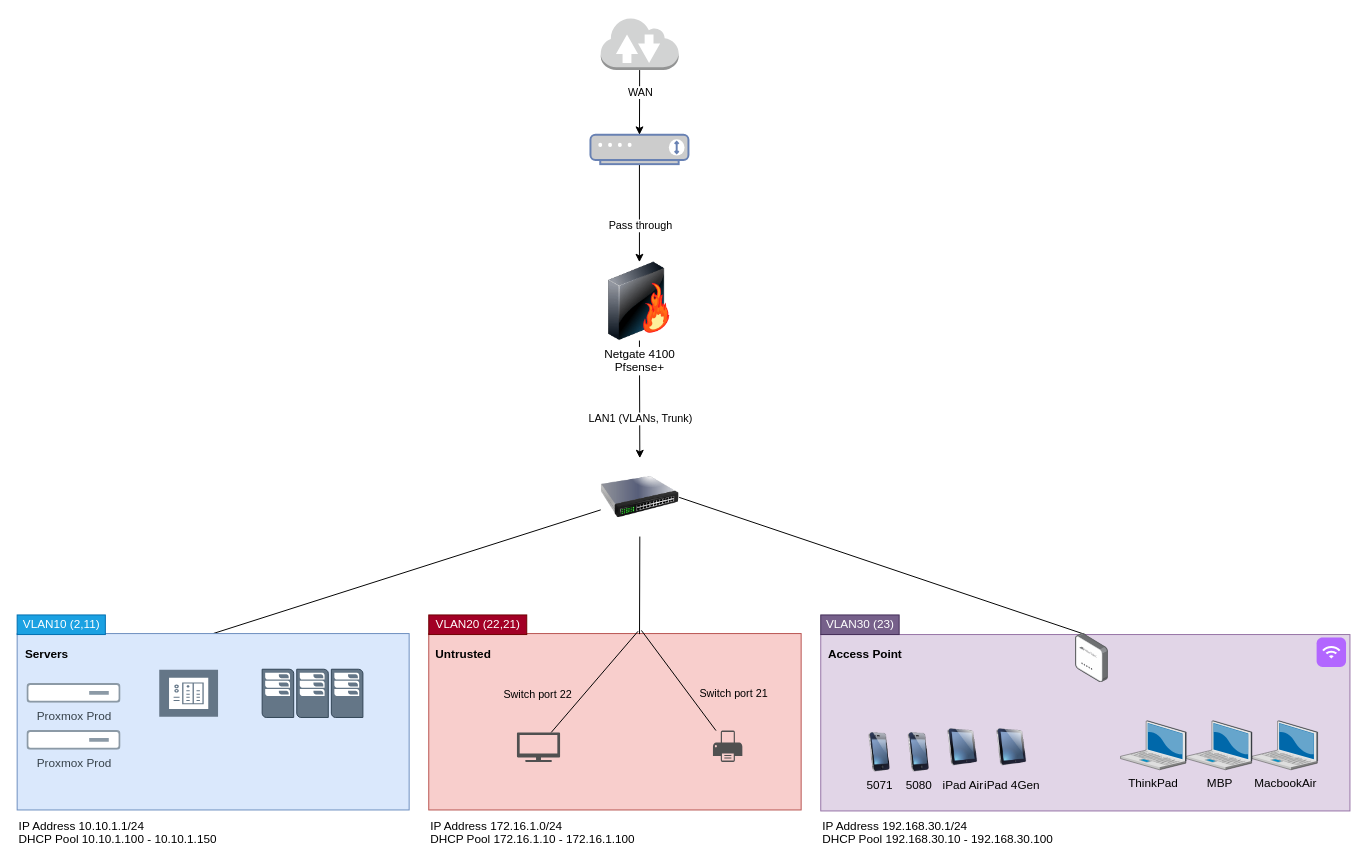
Some shapes in this 1367 by 866 pixel diagram are drawn without their labels. Here are the shapes that lost their labels. From the top down, the box of each, then its label:
(589, 133, 689, 165): AT&T BGW210 Modem
(600, 458, 679, 536): TL-SG1024DE
(1075, 633, 1108, 682): TL Access Point
(158, 669, 218, 717): NAS
(261, 668, 363, 717): K8s
(516, 732, 560, 761): Samsung 52"
(712, 730, 742, 761): HP Laserjet Pro M118dw
